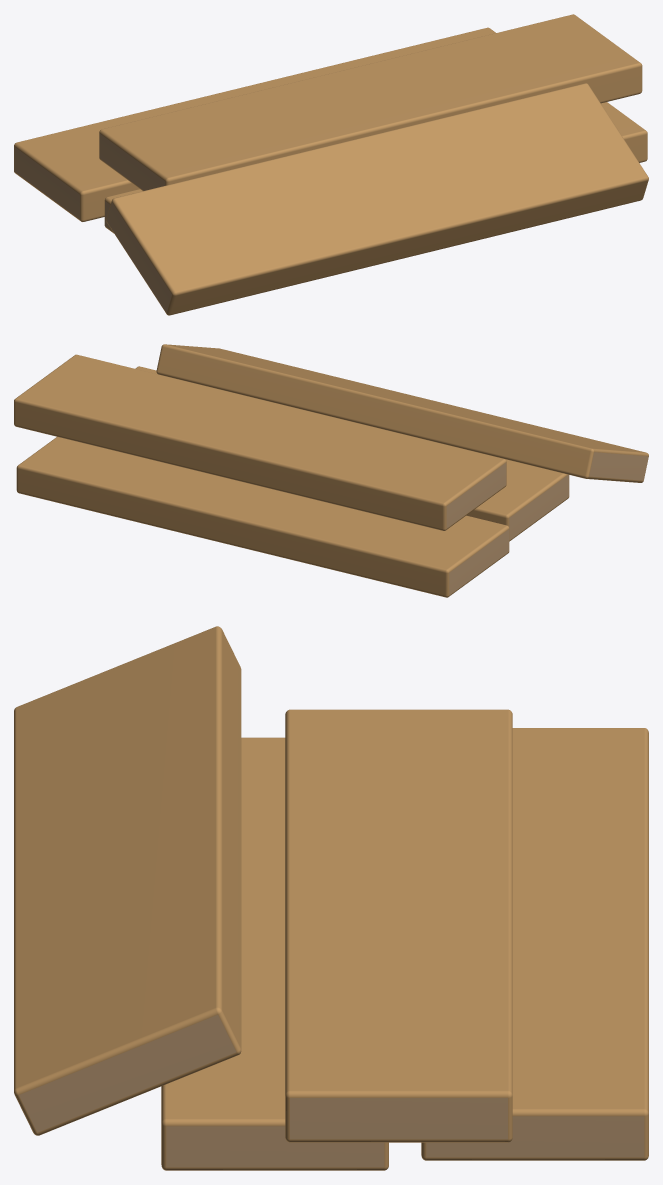
File: WoodGeo.fbx
The picture shows the model from 3 angles, top to bottom: view 1: azimuth 30°, elevation 25°; view 2: azimuth 150°, elevation 25°; view 3: azimuth 270°, elevation 25°; orthographic projection. The views are drawn at different scales.
Parts seen in each view (by area): view 1: wood_planks_geo; view 2: wood_planks_geo; view 3: wood_planks_geo.
Boxes of the visible parts, left/top/right/bottom form: wood_planks_geo: left=14, top=14, right=648, bottom=315; wood_planks_geo: left=14, top=344, right=648, bottom=597; wood_planks_geo: left=14, top=626, right=648, bottom=1170.
Bounding box in the file's own units: 131 × 17.61 × 79.13.
